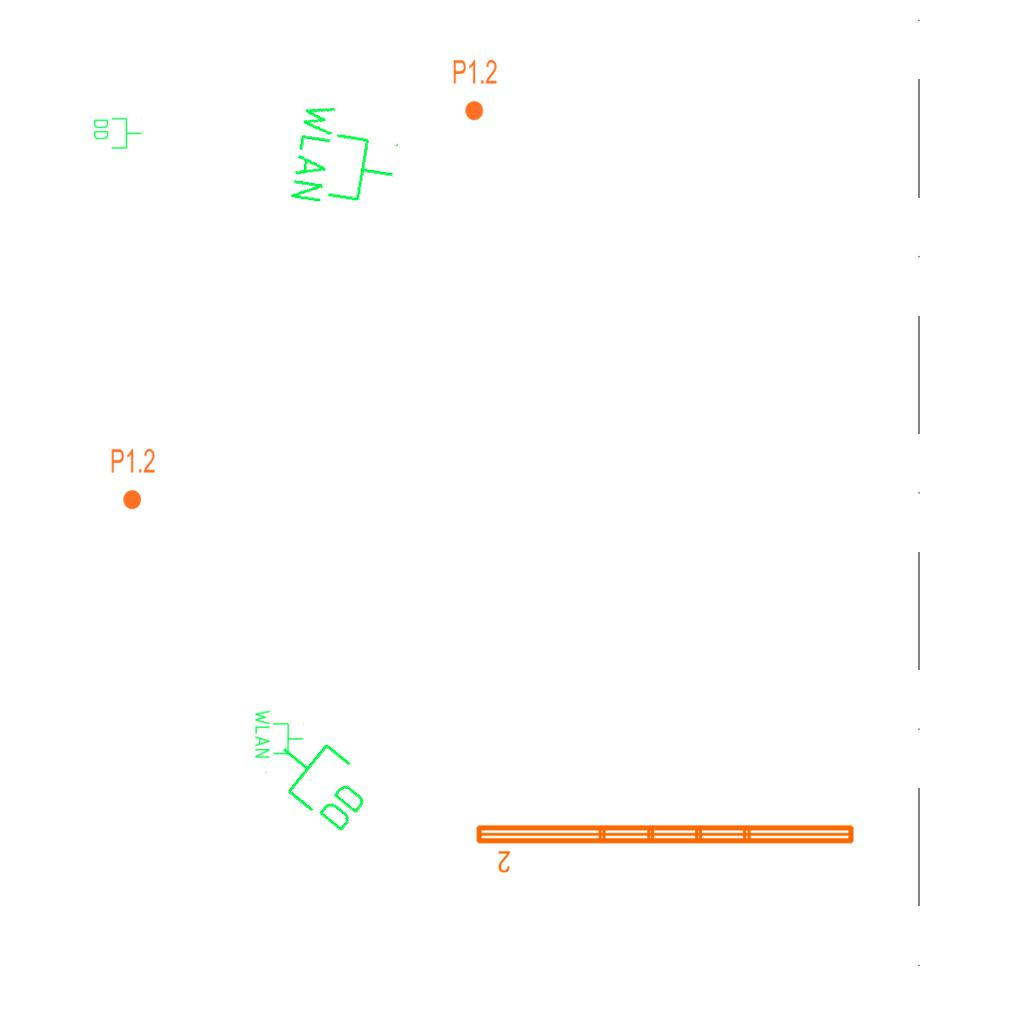Ambulanz_Pendelleuchte_LED: (472, 819, 859, 875)
Datenanschluss_zweifach: (259, 721, 384, 840), (92, 116, 143, 150)
Downlight_LED_Einbauleuchten_Flur: (110, 447, 156, 511), (452, 58, 498, 122)
WLAN: (286, 97, 406, 218), (253, 708, 305, 760)
